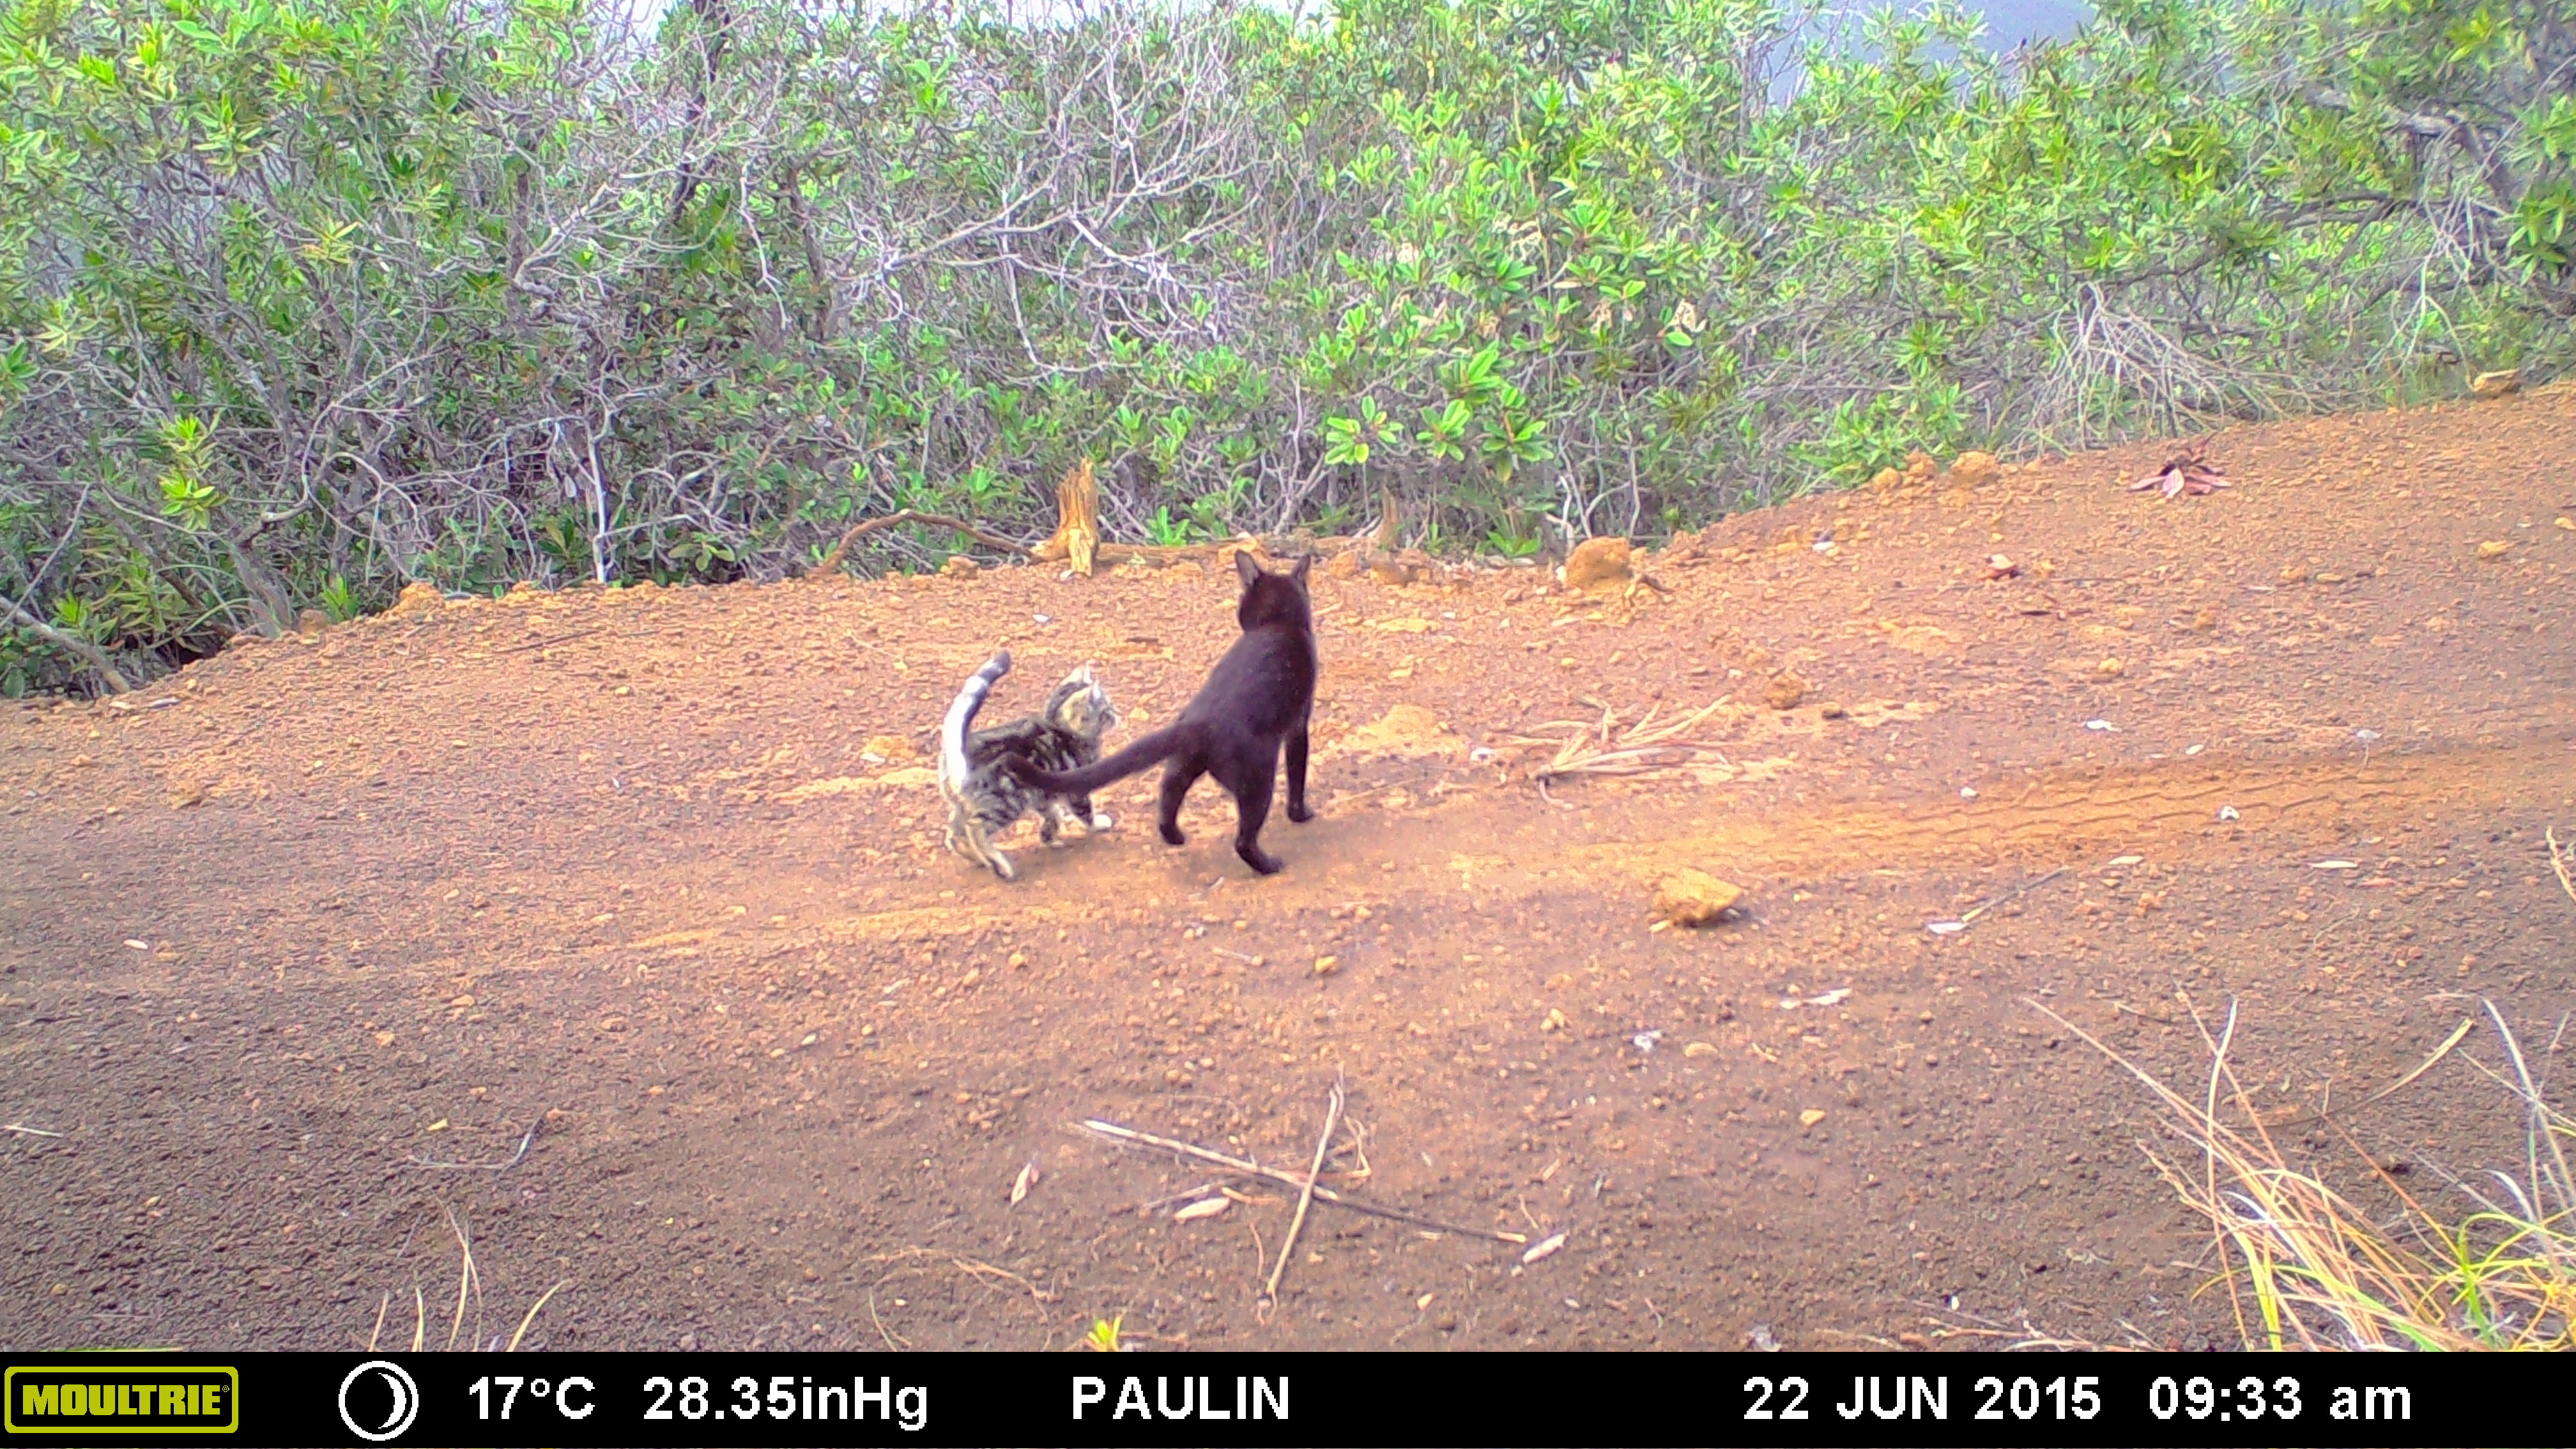cat: (1003, 545, 1332, 916), (929, 632, 1123, 901)
